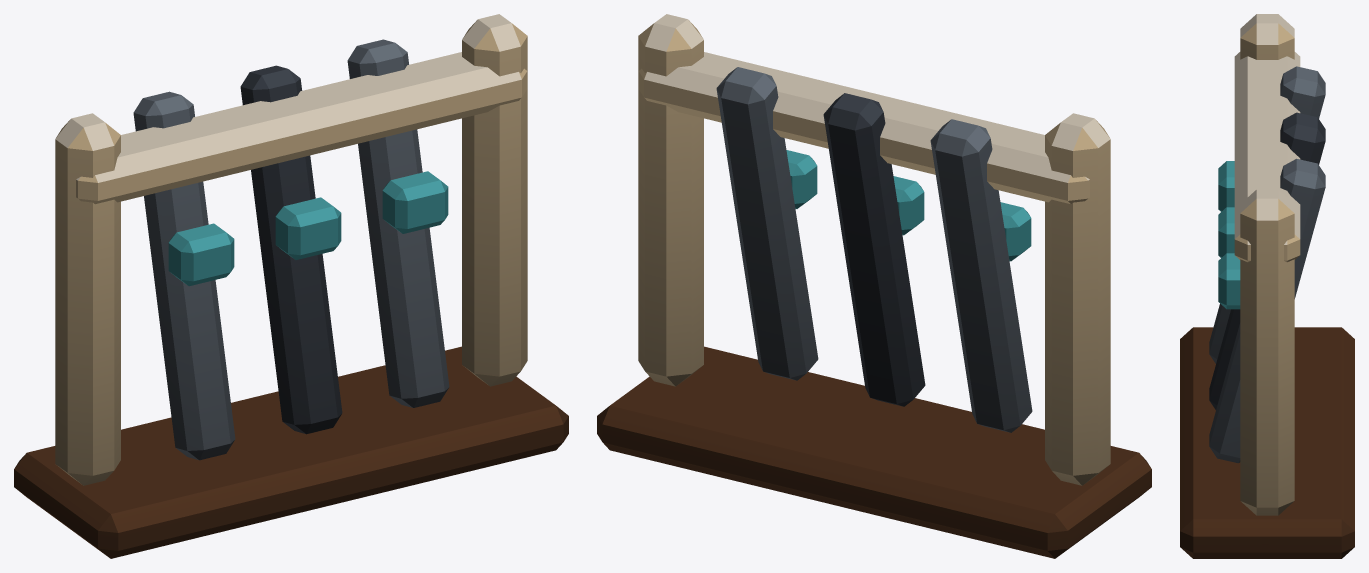
File: weapon-rack.glb
3 renders of one model, left to right at view 1: azimuth 30°, elevation 25°; view 2: azimuth 150°, elevation 25°; view 3: azimuth 270°, elevation 25°, orthographic. The views are drawn at different scales.
Parts seen in each view (by area): view 1: mesh_weapon_rack; view 2: mesh_weapon_rack; view 3: mesh_weapon_rack.
Boxes of the visible parts, bbox=[...] form: mesh_weapon_rack: bbox=[14, 14, 568, 558]; mesh_weapon_rack: bbox=[597, 14, 1151, 558]; mesh_weapon_rack: bbox=[1180, 14, 1354, 558].
Bounding box in the file's own units: 0.88 × 0.72 × 0.32.
